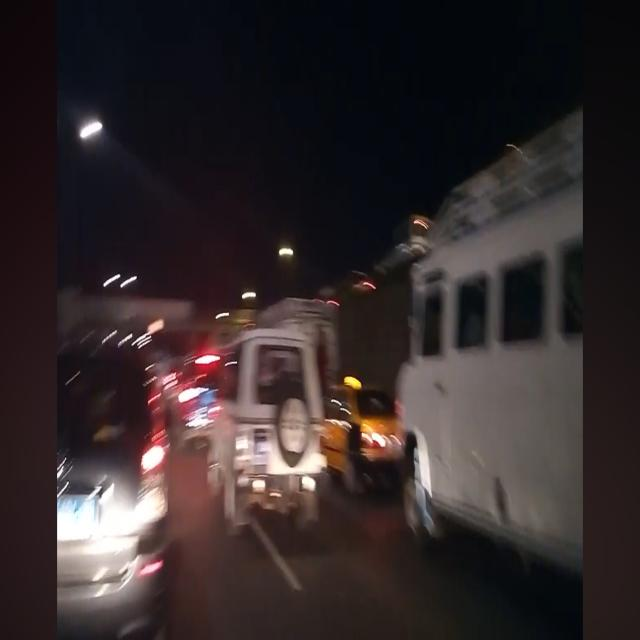ndiaga ndiaye: (400, 112, 584, 572), (259, 299, 341, 396)
particulier: (57, 347, 169, 637), (210, 328, 327, 531)
taxi: (322, 377, 404, 491)
